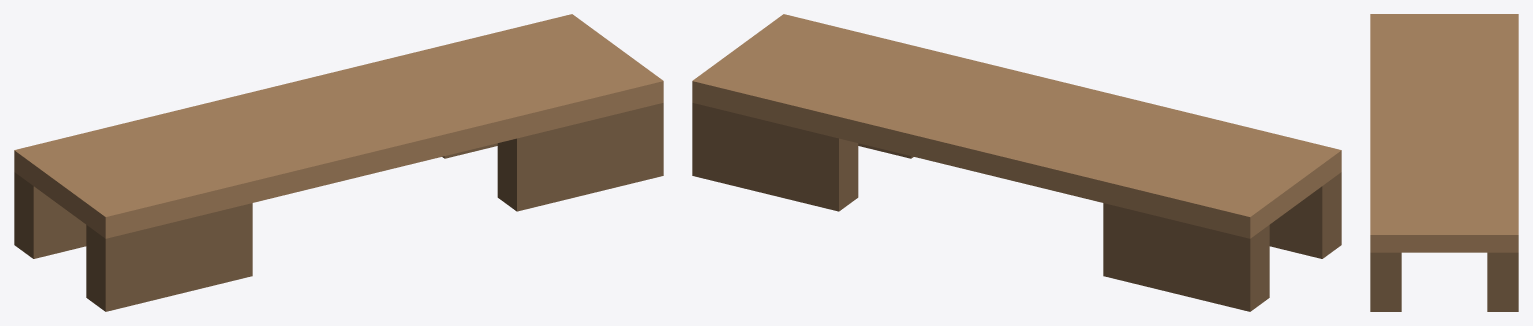
Rendered from Bench01.fbx.
The picture shows the model from 3 angles, left to right: view 1: azimuth 30°, elevation 25°; view 2: azimuth 150°, elevation 25°; view 3: azimuth 270°, elevation 25°; orthographic projection. The views are drawn at different scales.
Parts seen in each view (by area): view 1: Cube.430; view 2: Cube.430; view 3: Cube.430.
Boxes of the visible parts, x1,y1,x2,y2 form: Cube.430: (14, 14, 663, 311); Cube.430: (692, 14, 1341, 311); Cube.430: (1370, 14, 1518, 311).
Bounding box in the file's own units: 360 × 58.36 × 102.
